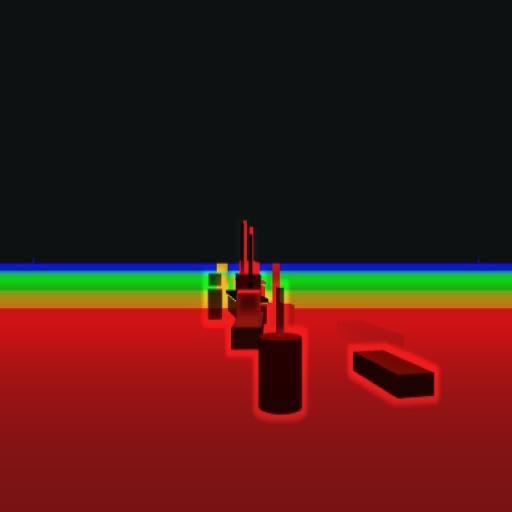buoy: (207, 273, 222, 321)
debris_container: (353, 345, 436, 399)
fishing_boat: (231, 238, 262, 350)
floating_obstacle: (258, 288, 304, 412)
